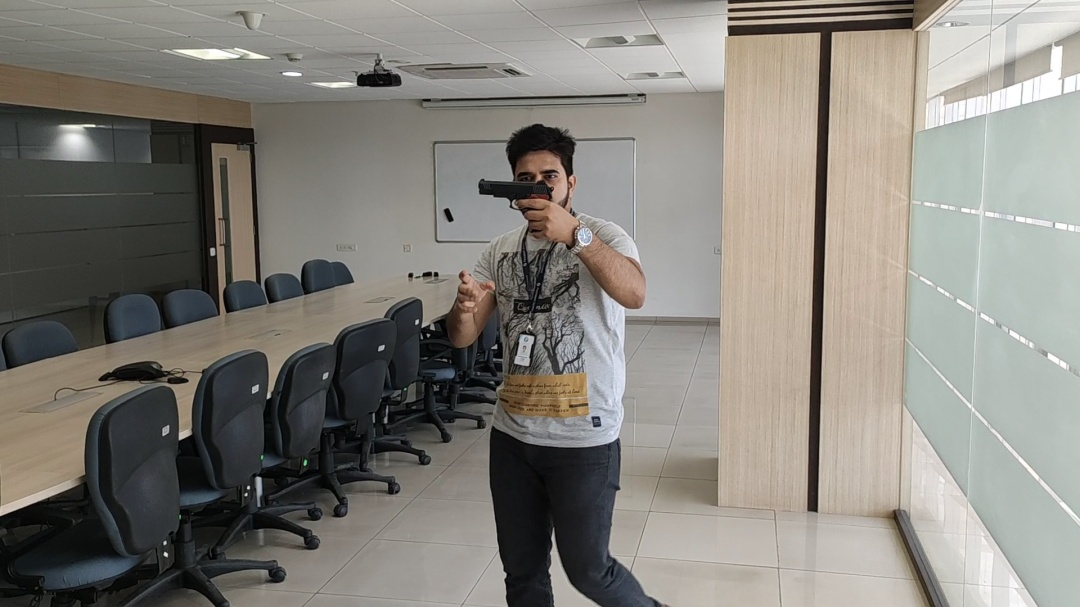gun: (474, 175, 556, 209)
